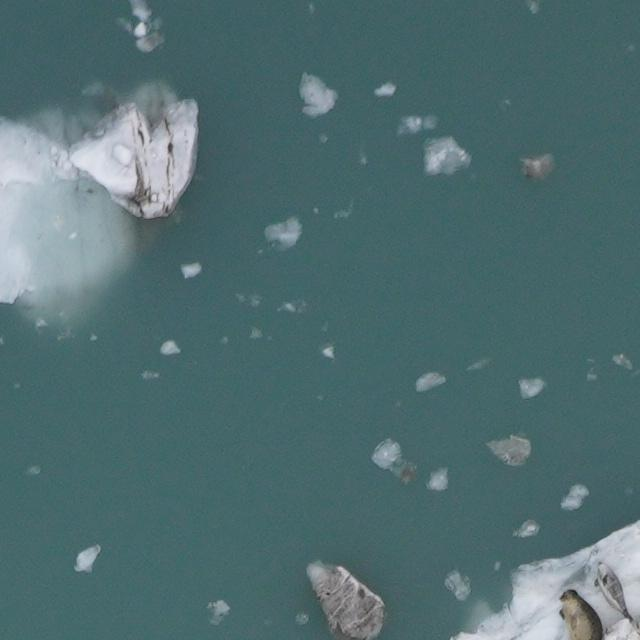seal: (589, 557, 638, 627), (556, 587, 608, 640)
